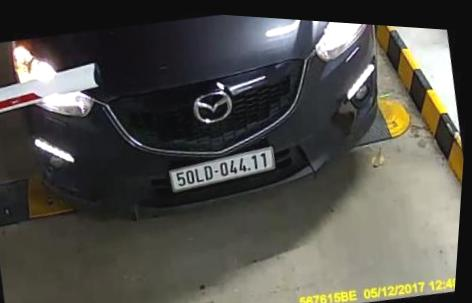License_Plate: (159, 136, 283, 207)
